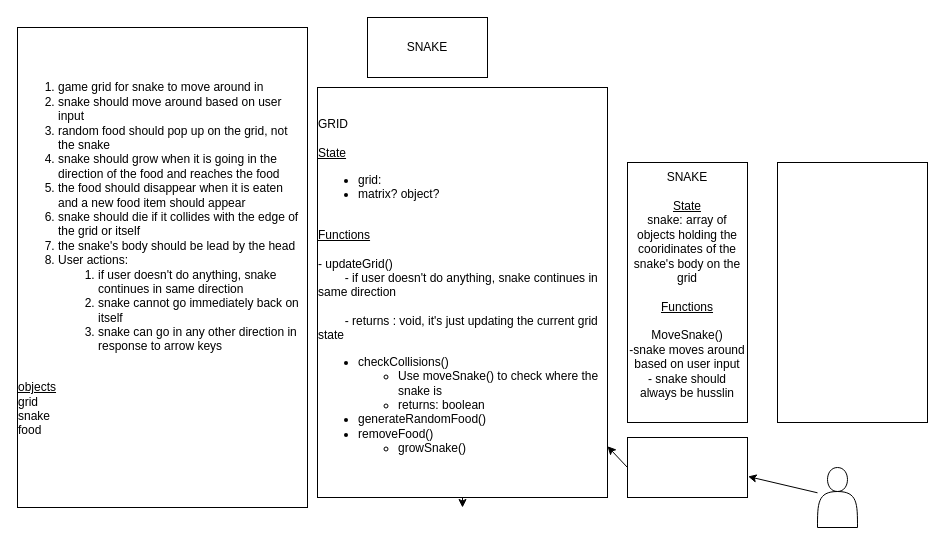
This 945x545 diagram has some shape labels left out. Here are the shapes that lost their labels. From the top down, the box of each, then its label:
(776, 162, 928, 422): FOOD State food: random cell on the grid Functions generateRandomFood()
(626, 436, 748, 498): index.js event listeners
